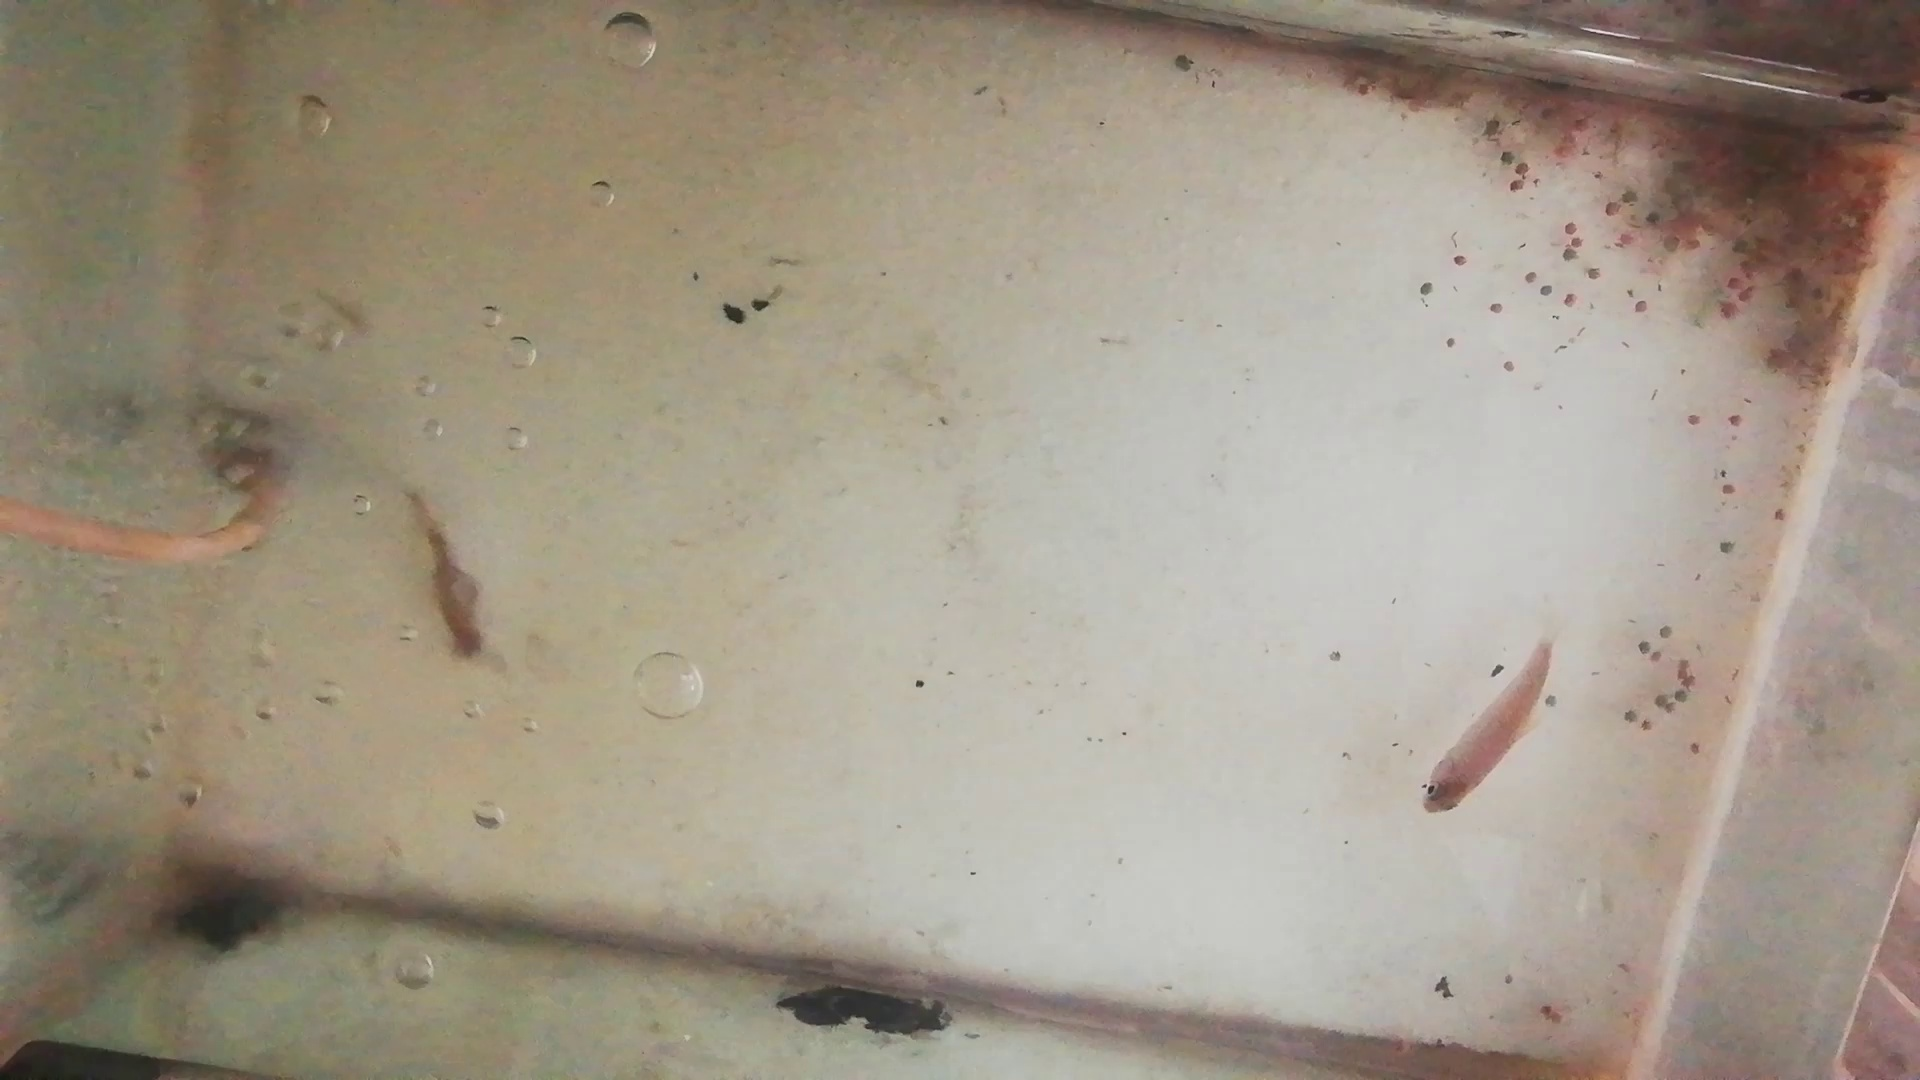fish: (1419, 636, 1549, 818), (411, 480, 484, 665)
